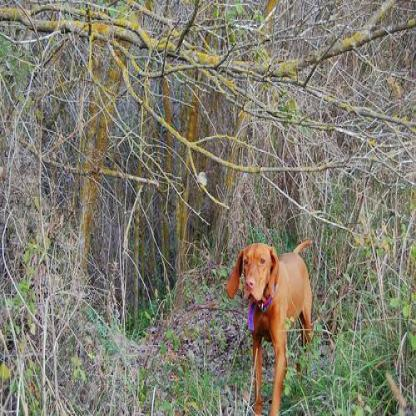vizsla: (223, 234, 316, 414)
